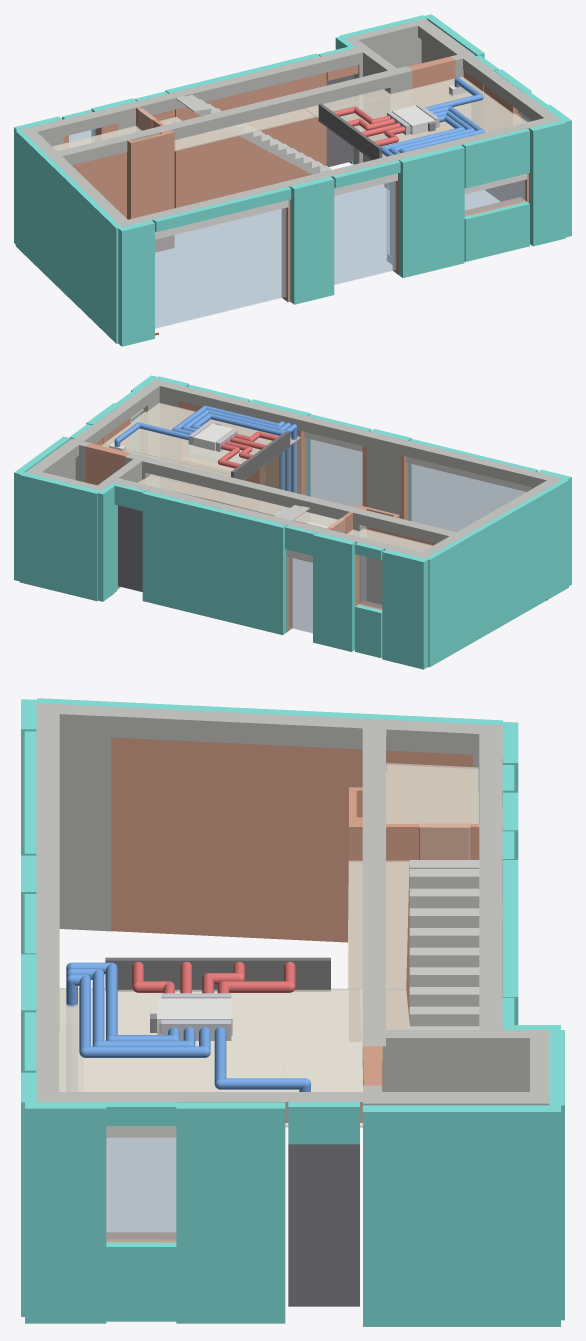
The model's file is House_AR_GF_open.glb.
The picture shows the model from 3 angles, top to bottom: view 1: azimuth 30°, elevation 25°; view 2: azimuth 150°, elevation 25°; view 3: azimuth 270°, elevation 25°; orthographic projection. The views are drawn at different scales.
Visible parts, largest first — view 1: GF-ET12, GF-EO06, GF-BW11, GF-ET07, GF-EO05, GF-ET09, GF-ET13, GF-BEAM08, GF-ET05, GF-BEAM05, GF-COL07, GF-EO04-SILL-ET (+38 smaller); view 2: GF-ET08, GF-ET12, GF-ET02, GF-ET11, GF-EO06, GF-ET10, GF-CL03, GF-BEAM08, GF-EO05, GF-BEAM02, GF-BEAM01, GF-COL01 (+40 smaller); view 3: GF-BW08, GF-ET01, GF-ET04, GF-ET06, GF-CL03, GF-ST01, GF-AD02, GF-COL03, GF-BEAM03, GF-CL04, GF-EO03, GF-BW07 (+44 smaller).
Boxes of the visible parts, left/top/right/bottom form: GF-ET12: left=15, top=130, right=121, bottom=343; GF-EO06: left=155, top=208, right=286, bottom=328; GF-BW11: left=173, top=72, right=326, bottom=208; GF-ET07: left=398, top=145, right=464, bottom=277; GF-EO05: left=334, top=181, right=396, bottom=284; GF-ET09: left=290, top=176, right=334, bottom=304; GF-ET13: left=118, top=220, right=154, bottom=346; GF-BEAM08: left=154, top=66, right=412, bottom=139; GF-ET05: left=529, top=120, right=565, bottom=246; GF-BEAM05: left=131, top=45, right=371, bottom=114; GF-COL07: left=344, top=18, right=475, bottom=164; GF-EO04-SILL-ET: left=464, top=201, right=529, bottom=261; GF-ET08: left=142, top=491, right=286, bottom=635; GF-ET12: left=425, top=479, right=568, bottom=666; GF-ET02: left=19, top=472, right=100, bottom=601; GF-ET11: left=382, top=549, right=429, bottom=669; GF-EO06: left=408, top=463, right=526, bottom=531; GF-ET10: left=313, top=532, right=355, bottom=651; GF-CL03: left=103, top=402, right=300, bottom=474; GF-BEAM08: left=125, top=453, right=363, bottom=519; GF-EO05: left=306, top=438, right=362, bottom=507; GF-BEAM02: left=151, top=379, right=400, bottom=446; GF-BEAM01: left=370, top=432, right=561, bottom=487; GF-COL01: left=367, top=435, right=404, bottom=518; GF-BW08: left=111, top=737, right=362, bottom=942; GF-ET01: left=363, top=1105, right=560, bottom=1326; GF-ET04: left=176, top=1102, right=285, bottom=1323; GF-ET06: left=25, top=1102, right=106, bottom=1323; GF-CL03: left=59, top=988, right=283, bottom=1091; GF-ST01: left=409, top=860, right=479, bottom=1029; GF-AD02: left=288, top=1144, right=359, bottom=1306; GF-COL03: left=37, top=705, right=110, bottom=931; GF-BEAM03: left=34, top=703, right=387, bottom=749; GF-CL04: left=282, top=988, right=362, bottom=1127; GF-EO03: left=106, top=1137, right=176, bottom=1240; GF-BW07: left=386, top=750, right=472, bottom=823.
Bounding box in the file's own units: 12.6 × 3.05 × 7.
